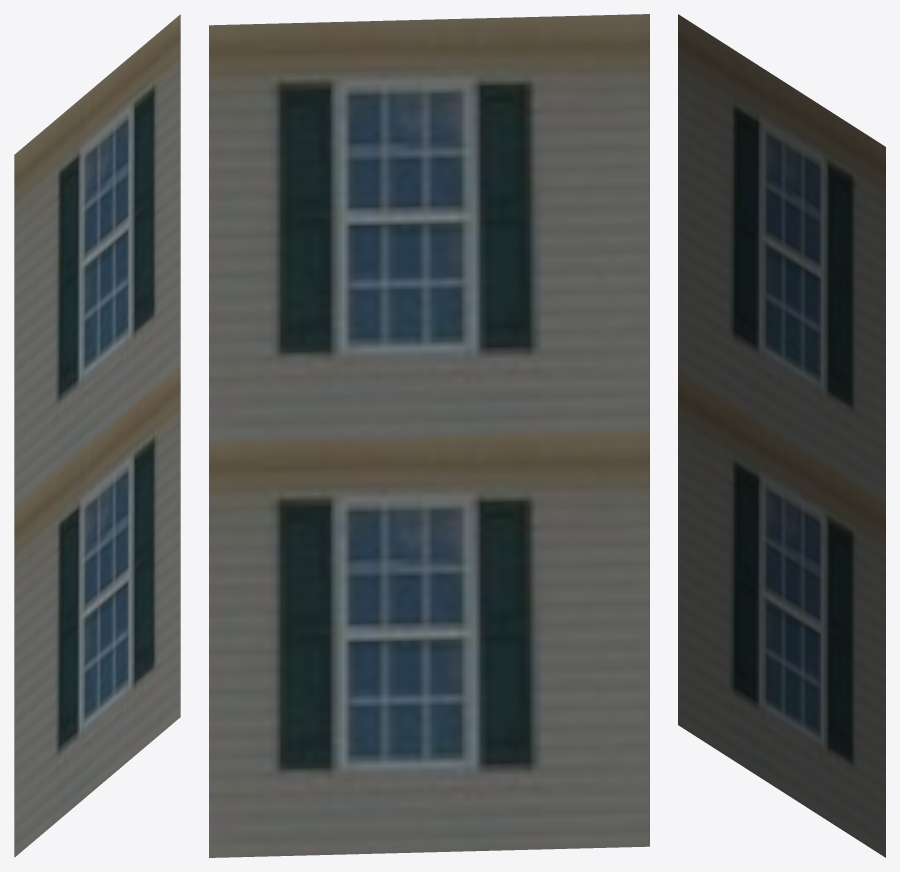
The model's file is ResTex__3465.fbx.
The picture shows the model from 3 angles, left to right: view 1: azimuth 30°, elevation 25°; view 2: azimuth 150°, elevation 25°; view 3: azimuth 270°, elevation 25°; orthographic projection. The views are drawn at different scales.
Parts seen in each view (by area): view 1: CityEngineMaterial_7_m; view 2: CityEngineMaterial_7_m; view 3: CityEngineMaterial_7_m.
Part boxes in pixels (<box>): CityEngineMaterial_7_m: <box>14,14,180,857</box>; CityEngineMaterial_7_m: <box>209,14,649,857</box>; CityEngineMaterial_7_m: <box>678,14,885,857</box>.
Bounding box in the file's own units: 2.41 × 6 × 1.59.
1 material, 1 textured.
